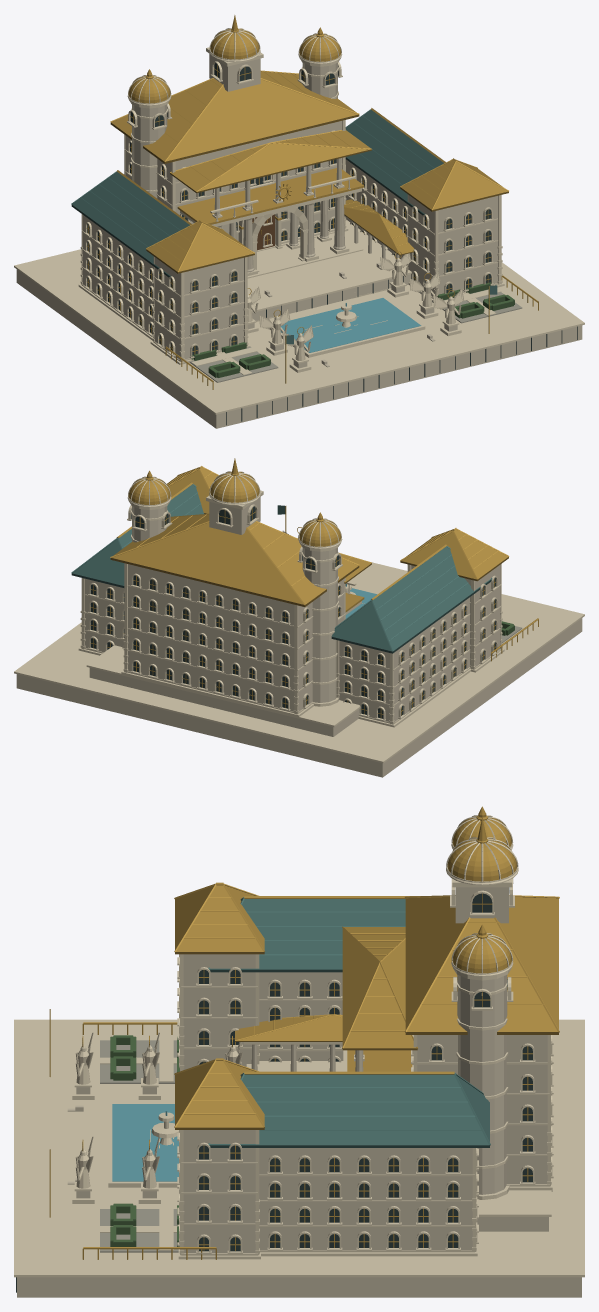
File: gilded-palace.glb
3 renders of one model, top to bottom at view 1: azimuth 30°, elevation 25°; view 2: azimuth 150°, elevation 25°; view 3: azimuth 270°, elevation 25°, orthographic. The views are drawn at different scales.
Parts seen in each view (by area): view 1: court-of-honour, gilded-ranges, gilded-ranges-roof, gold-front, processional, gold-front-roof; view 2: gilded-ranges, court-of-honour, gilded-ranges-roof, processional; view 3: court-of-honour, gilded-ranges, gilded-ranges-roof, gold-front-roof, processional, gold-front.
Boxes of the visible parts, bbox=[...] form: court-of-honour: bbox=[14, 220, 584, 428]; gilded-ranges: bbox=[78, 47, 504, 364]; gilded-ranges-roof: bbox=[71, 15, 508, 277]; gold-front: bbox=[177, 158, 364, 278]; processional: bbox=[165, 251, 538, 389]; gold-front-roof: bbox=[170, 130, 371, 193]; gilded-ranges: bbox=[78, 490, 504, 727]; court-of-honour: bbox=[14, 562, 584, 777]; gilded-ranges-roof: bbox=[71, 458, 509, 653]; processional: bbox=[277, 505, 538, 661]; court-of-honour: bbox=[14, 1019, 584, 1297]; gilded-ranges: bbox=[177, 878, 553, 1259]; gilded-ranges-roof: bbox=[174, 806, 559, 1147]; gold-front-roof: bbox=[342, 926, 418, 1050]; processional: bbox=[49, 1009, 242, 1259]; gold-front: bbox=[343, 1050, 412, 1071].
Bounding box in the file's own units: 36.35 × 23.5 × 34.35.
